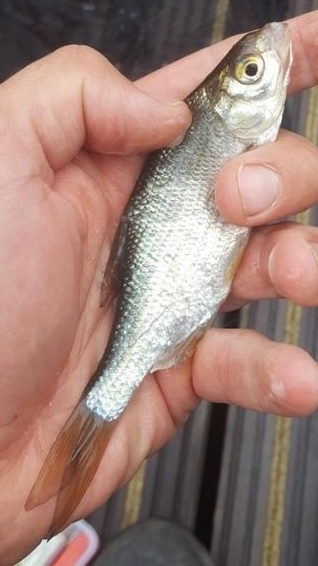Abramis brama: (20, 20, 298, 546)
